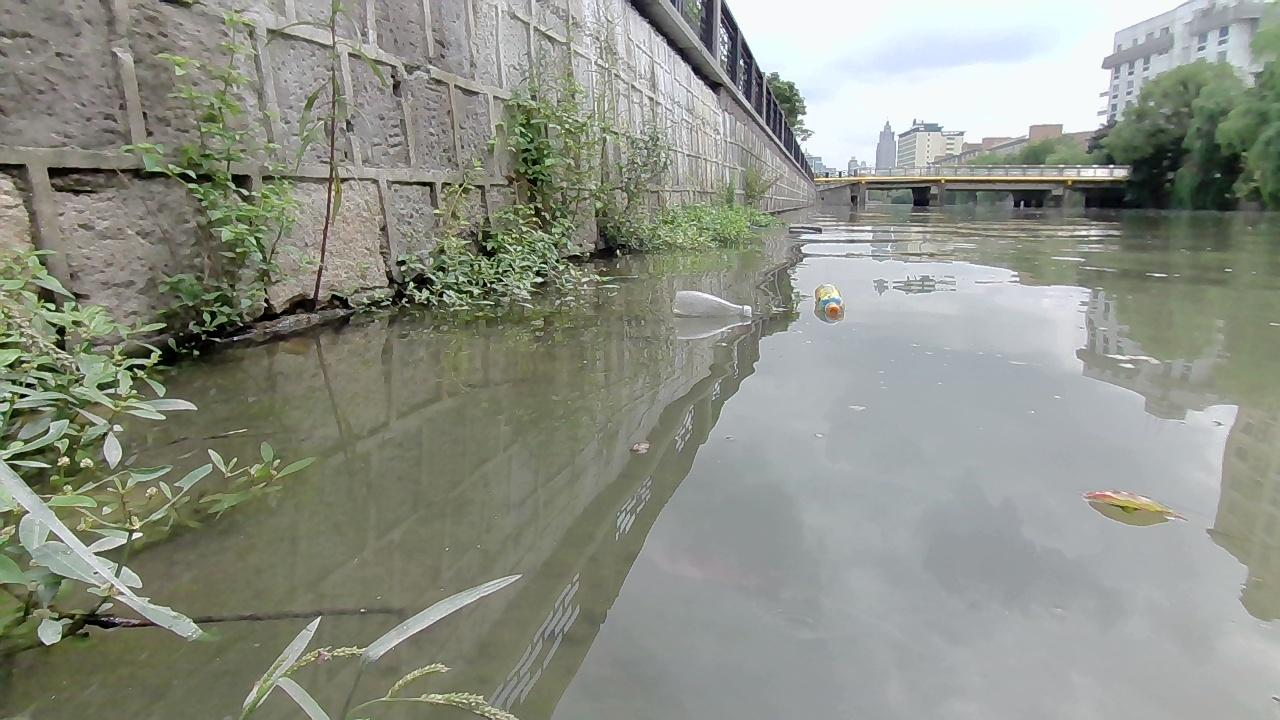bottle: (671, 289, 752, 321), (815, 280, 847, 325)
